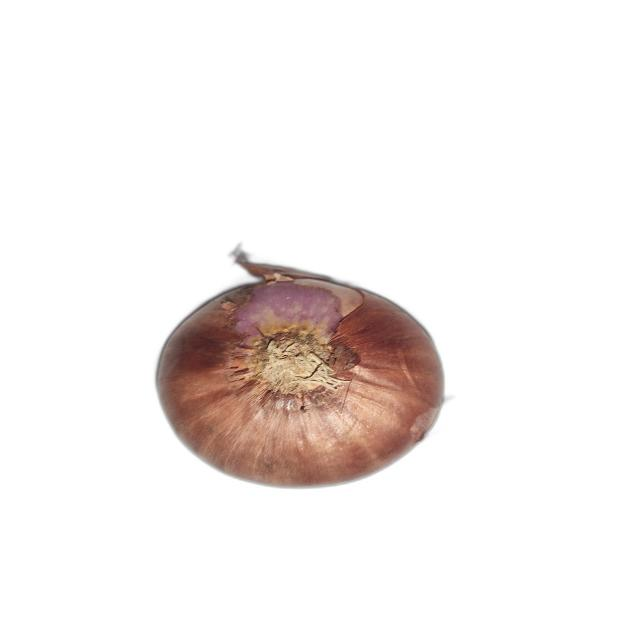onion: (155, 245, 449, 489)
